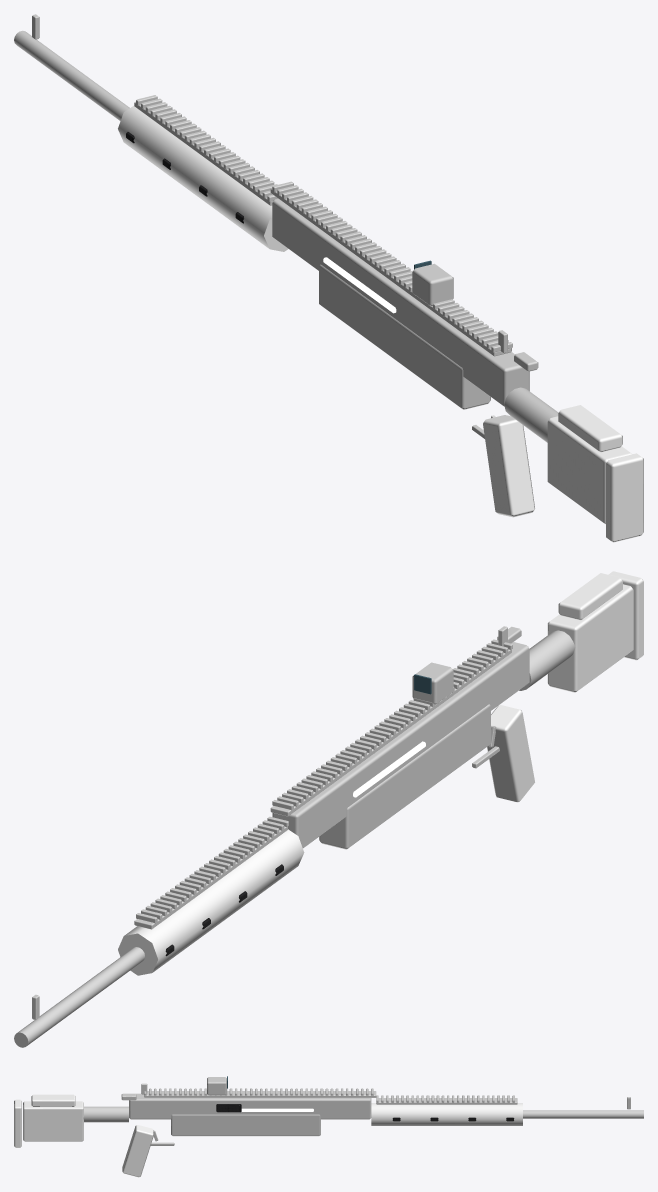
Rendered from stormlance.glb.
3 renders of one model, top to bottom at view 1: azimuth 30°, elevation 25°; view 2: azimuth 150°, elevation 25°; view 3: azimuth 270°, elevation 25°, orthographic. The views are drawn at different scales.
Size of the model in its own units: 0.05 by 0.2113 by 1.25.
Materials: 5 (1 with a texture image).
